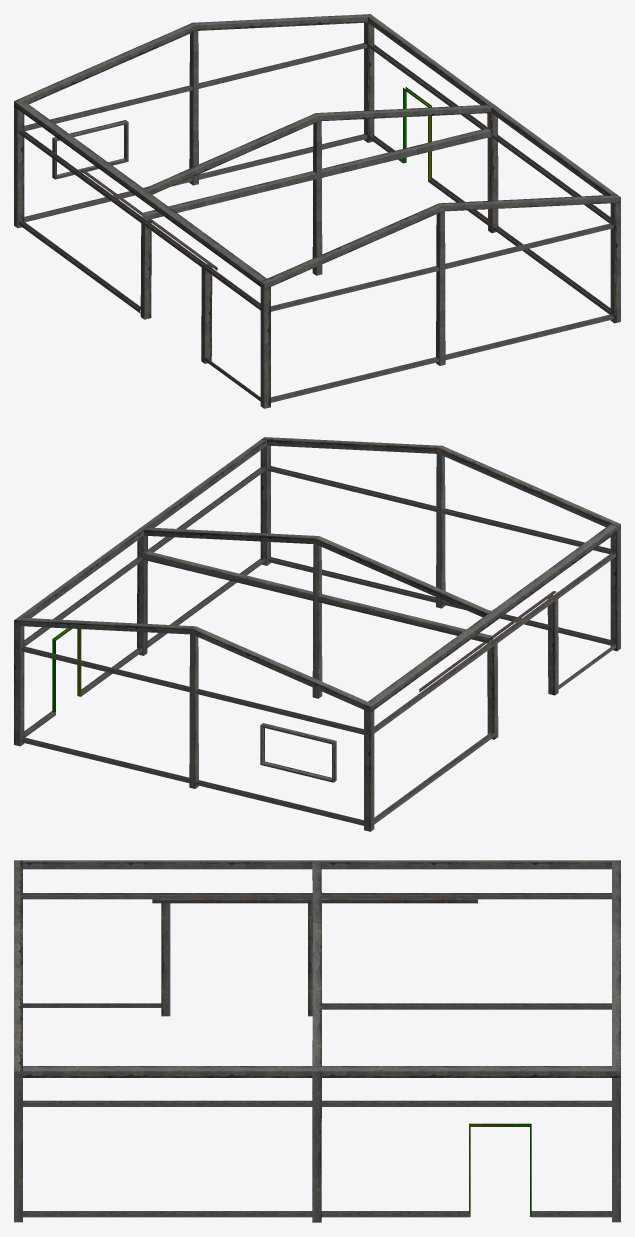
Rendered from stuccobuildinga_id_3_metaltrim_dm_0_lev1.glb.
3 renders of one model, top to bottom at view 1: azimuth 30°, elevation 25°; view 2: azimuth 150°, elevation 25°; view 3: azimuth 270°, elevation 25°, orthographic. The views are drawn at different scales.
Visible parts, largest first — view 1: stuccobuildinga_id_3_metaltrim_dm_0_lev1; view 2: stuccobuildinga_id_3_metaltrim_dm_0_lev1; view 3: stuccobuildinga_id_3_metaltrim_dm_0_lev1.
Boxes of the visible parts, x1,y1,x2,y2 form: stuccobuildinga_id_3_metaltrim_dm_0_lev1: (14, 14, 620, 408); stuccobuildinga_id_3_metaltrim_dm_0_lev1: (14, 437, 620, 831); stuccobuildinga_id_3_metaltrim_dm_0_lev1: (14, 860, 620, 1222).
Bounding box in the file's own units: 6.59 × 2.81 × 8.
1 material, 1 textured.
